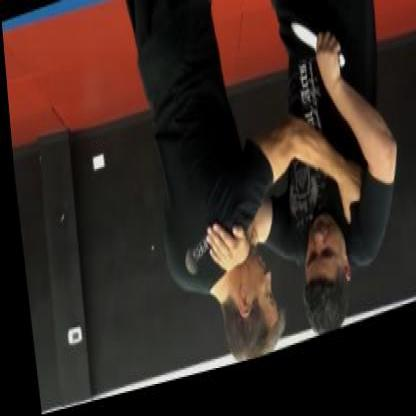knife: (285, 18, 344, 103)
